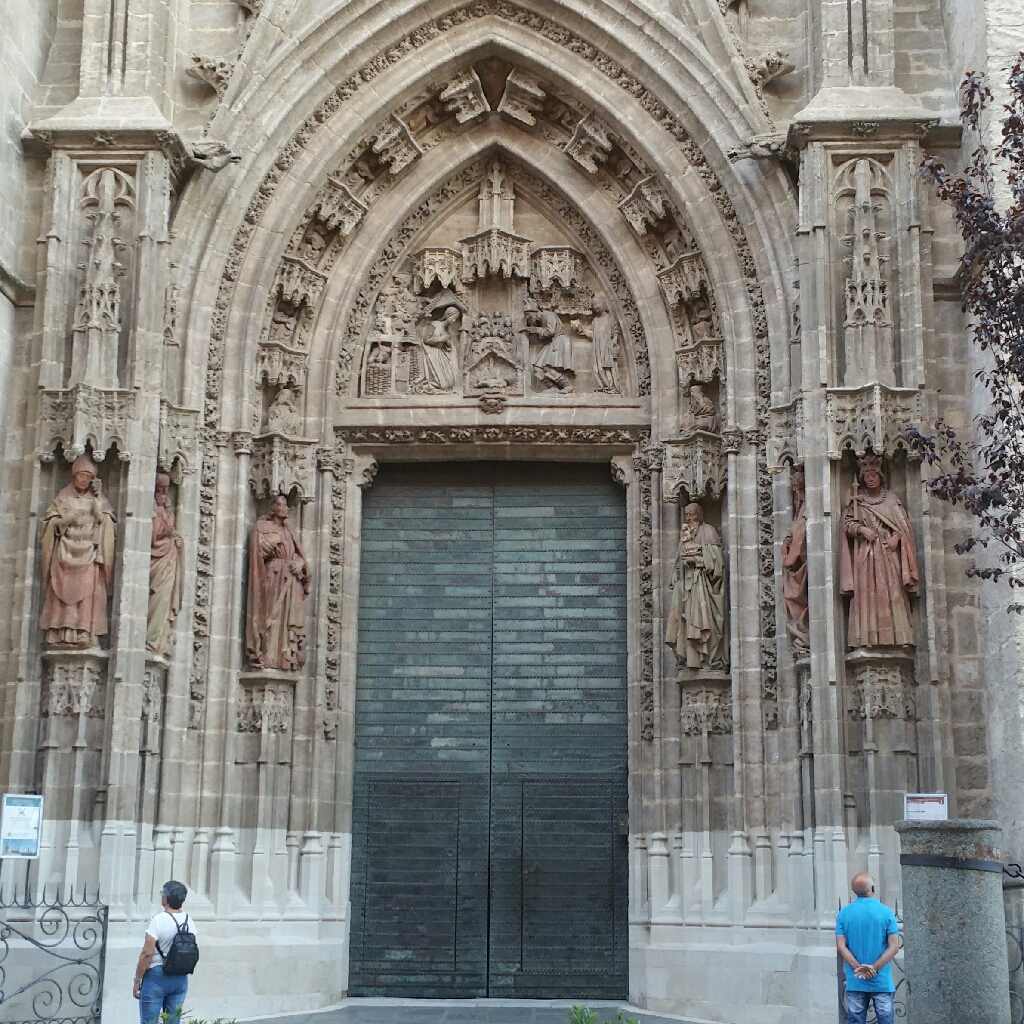arco-apuntado: (201, 1, 763, 404)
